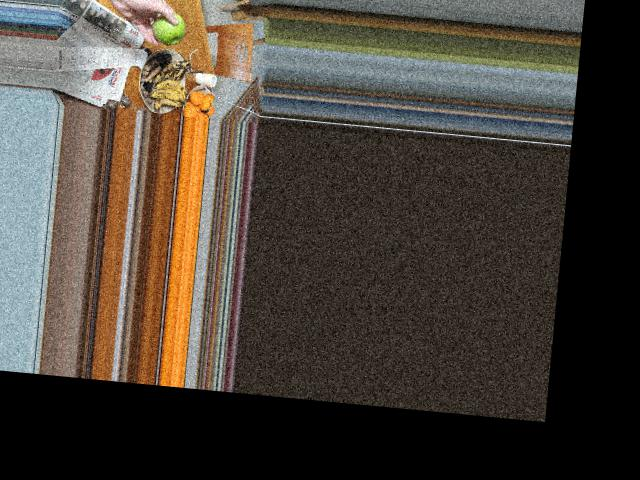apple: (146, 8, 189, 47)
